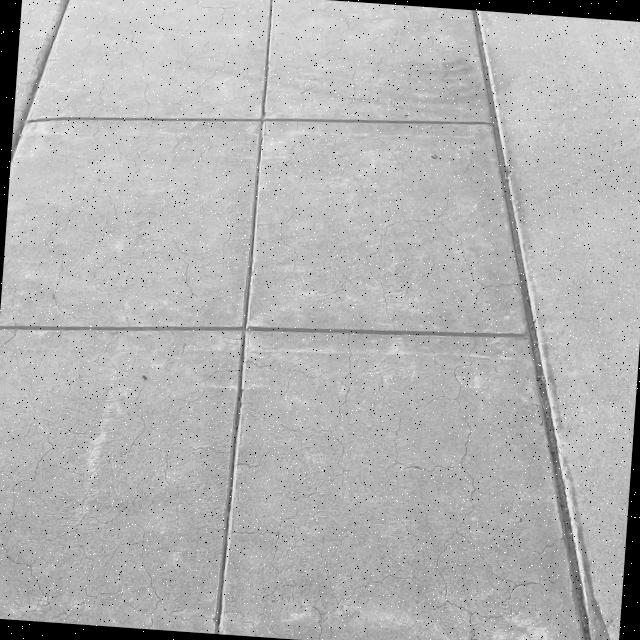walkway: (0, 423, 619, 640), (19, 137, 506, 366), (0, 285, 550, 484), (59, 0, 484, 215)
